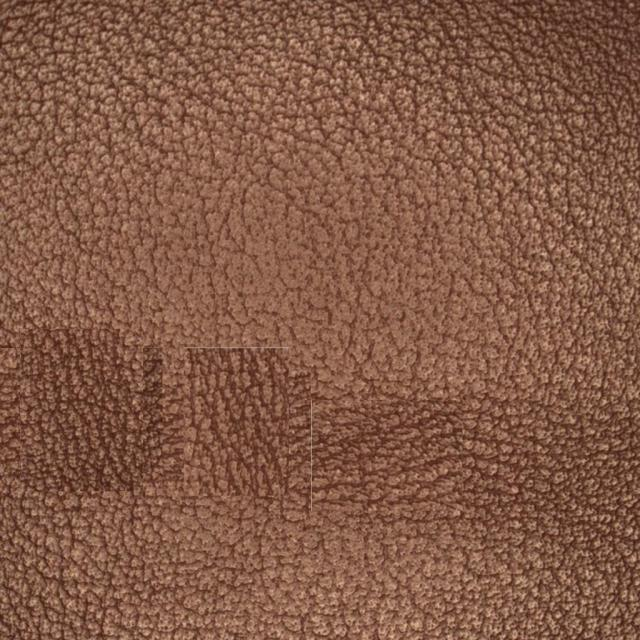Healed Injury: (171, 318, 360, 566), (393, 377, 612, 554)
